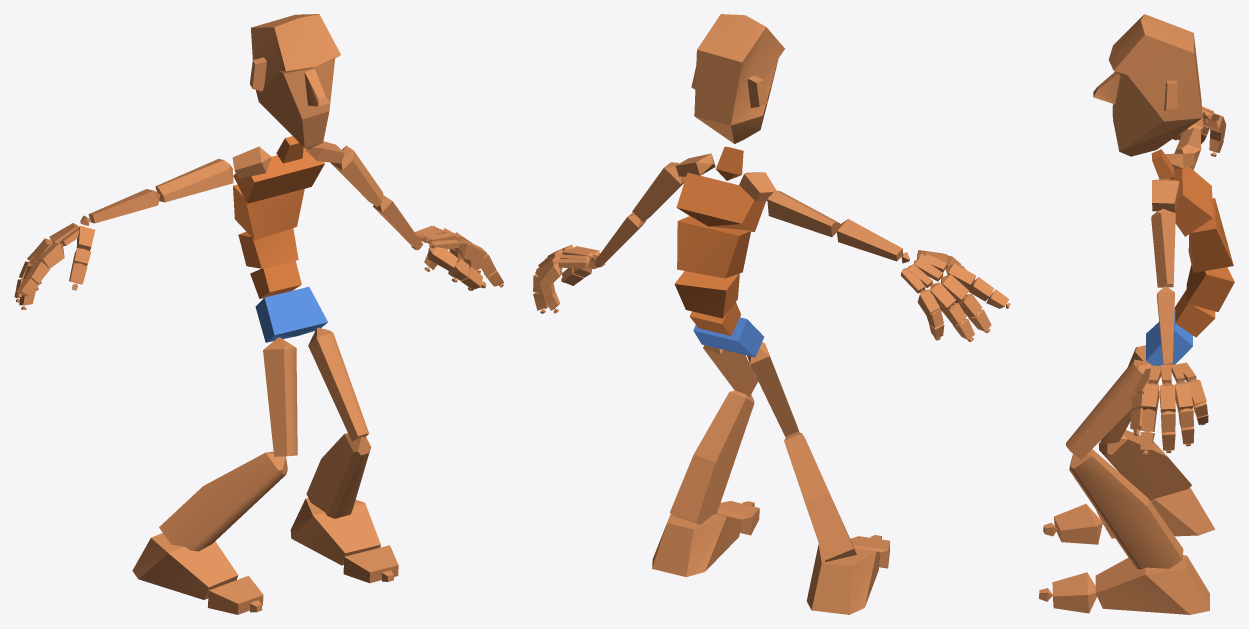
3 views of the same model, side by side, from view 1: azimuth 30°, elevation 25°; view 2: azimuth 150°, elevation 25°; view 3: azimuth 270°, elevation 25° (orthographic). The views are drawn at different scales.
Parts seen in each view (by area): view 1: BOPED_Head, BOPED_R_leg, BOPED_R_foot, BOPED_R_foot01, BOPED_L_leg, BOPED_R_legup, BOPED_L_legup, Bone01, Bone04, Bone05, BOPED_R_arm_upper, Bone03 (+7 smaller); view 2: BOPED_Head, BOPED_L_leg, BOPED_R_foot01, BOPED_R_foot, BOPED_R_leg, Bone04, Bone05, Bone03, BOPED_R_legup, BOPED_R_arm_upper, Bone01, BOPED_L_legup (+8 smaller); view 3: BOPED_Head, BOPED_L_leg, BOPED_R_foot01, BOPED_R_leg, BOPED_L_legup, Bone05, BOPED_R_foot, Bone04, Bone03, BOPED_L_arm_upper, BOPED_R_foot_toe01, BOPED_R_foot_toe04 (+15 smaller).
Part boxes in pixels (box(x1,y1,x2,y2)): BOPED_Head: box(250, 14, 340, 149); BOPED_R_leg: box(159, 451, 287, 551); BOPED_R_foot: box(132, 533, 238, 599); BOPED_R_foot01: box(290, 498, 380, 565); BOPED_L_leg: box(306, 433, 370, 518); BOPED_R_legup: box(263, 337, 297, 456); BOPED_L_legup: box(308, 327, 368, 441); Bone01: box(255, 286, 327, 342); Bone04: box(233, 184, 304, 240); Bone05: box(233, 148, 324, 203); BOPED_R_arm_upper: box(155, 159, 233, 202); Bone03: box(238, 228, 298, 268); BOPED_Head: box(691, 14, 784, 143); BOPED_L_leg: box(670, 390, 754, 524); BOPED_R_foot01: box(652, 513, 742, 577); BOPED_R_foot: box(806, 544, 880, 614); BOPED_R_leg: box(784, 432, 856, 561); Bone04: box(677, 216, 750, 278); Bone05: box(676, 172, 765, 231); Bone03: box(674, 271, 739, 318); BOPED_R_legup: box(747, 342, 799, 437); BOPED_R_arm_upper: box(767, 190, 840, 237); Bone01: box(693, 317, 764, 357); BOPED_L_legup: box(703, 345, 758, 396); BOPED_Head: box(1093, 14, 1202, 156); BOPED_L_leg: box(1069, 449, 1183, 569); BOPED_R_foot01: box(1095, 555, 1209, 614); BOPED_R_leg: box(1098, 430, 1191, 500); BOPED_L_legup: box(1066, 359, 1151, 459); Bone05: box(1173, 167, 1212, 236); BOPED_R_foot: box(1096, 487, 1215, 538); Bone04: box(1188, 198, 1233, 272); Bone03: box(1186, 265, 1234, 312); BOPED_L_arm_upper: box(1151, 208, 1175, 287); BOPED_R_foot_toe01: box(1054, 504, 1102, 544); BOPED_R_foot_toe04: box(1052, 572, 1096, 613).
Size of the model in its own units: 165 by 178 by 56.5.
